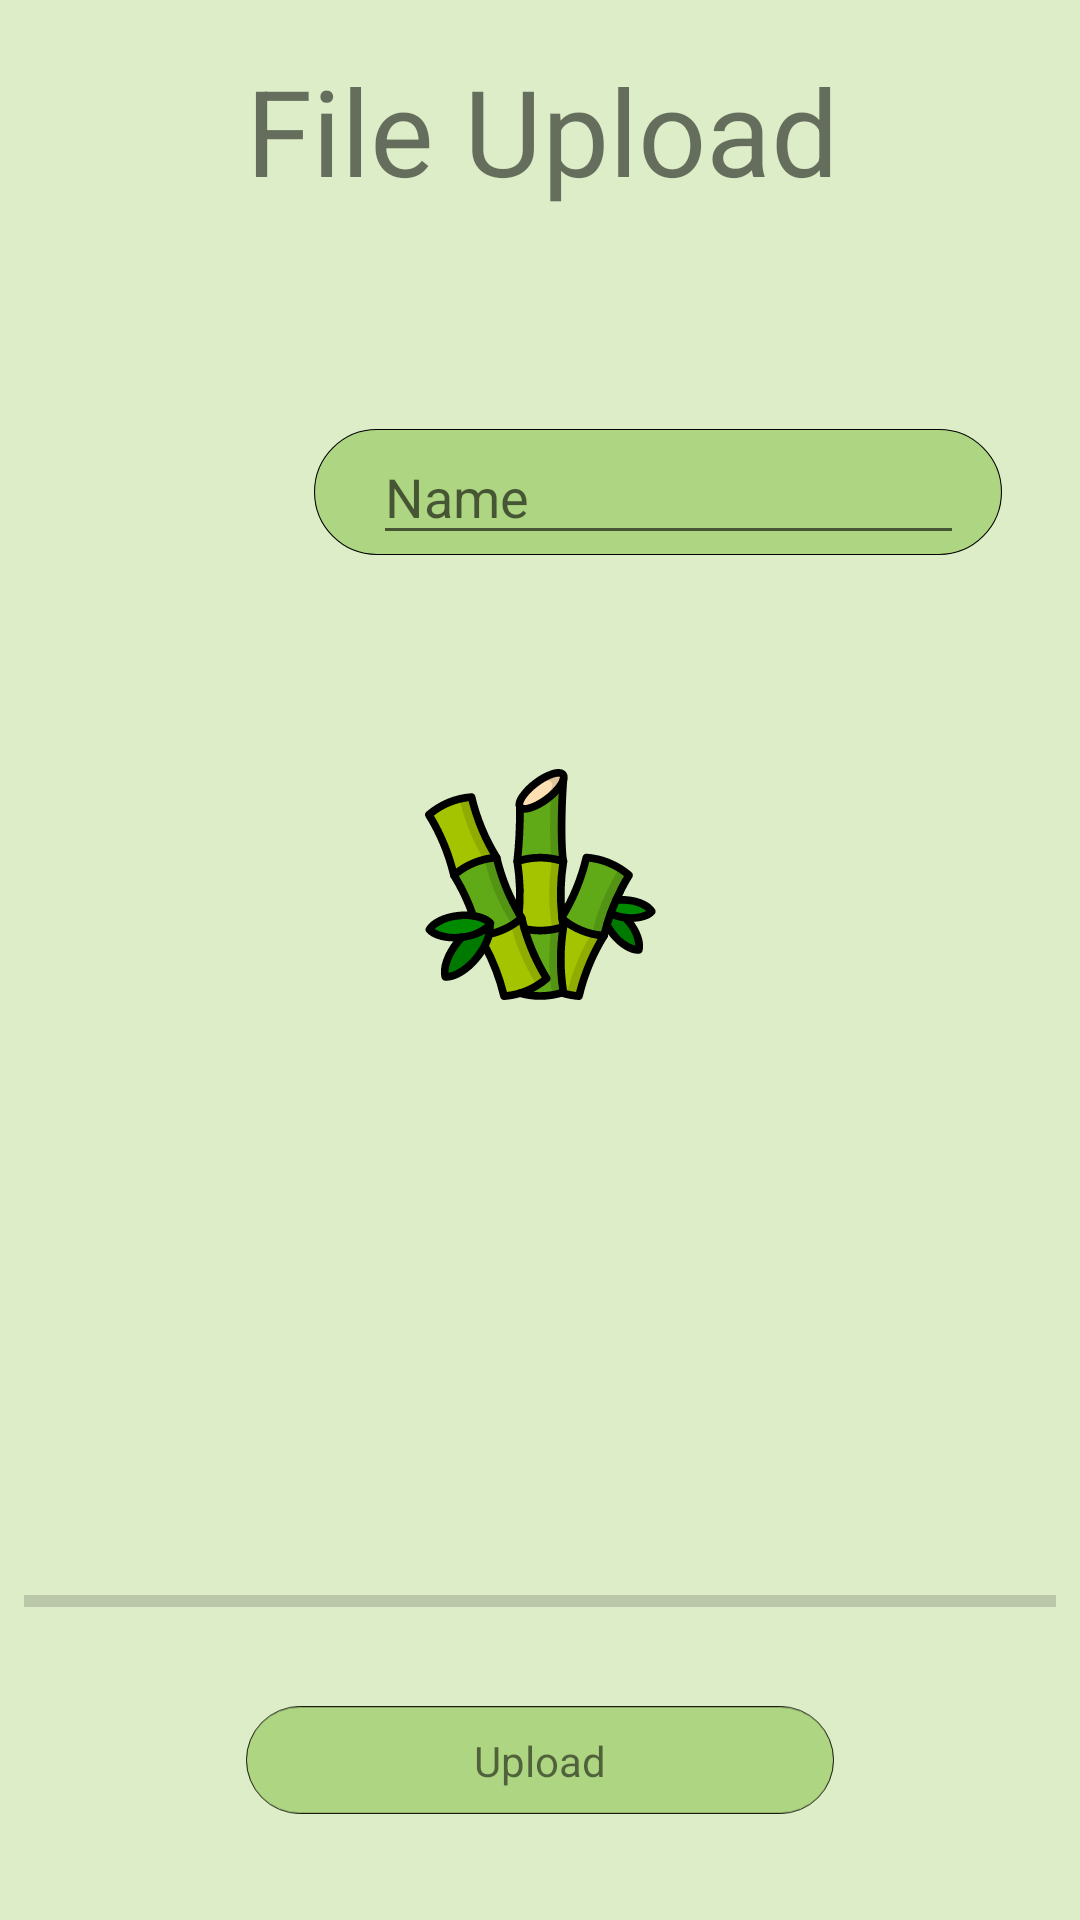

Named icons in this screenshot (1080×1920) and their bounding boxes, (x1, y1, x2, y2):
screen bamboo: (425, 769, 656, 1000)
